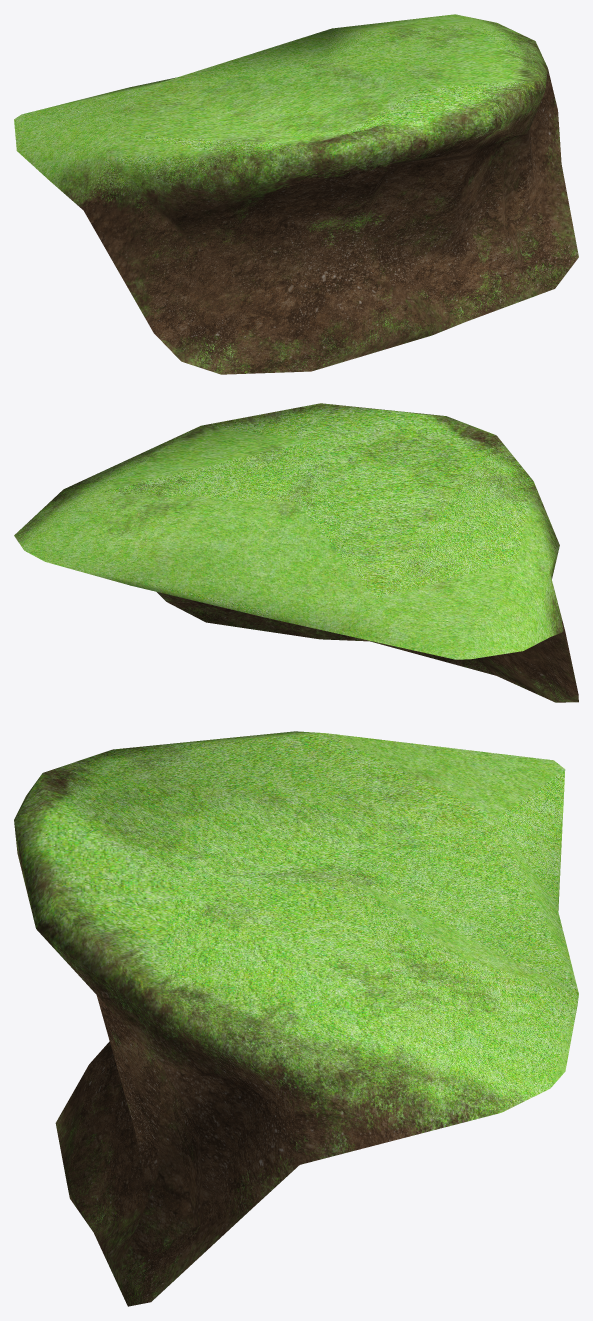
Rendered from ENV2910003.fbx.
The picture shows the model from 3 angles, top to bottom: view 1: azimuth 30°, elevation 25°; view 2: azimuth 150°, elevation 25°; view 3: azimuth 270°, elevation 25°; orthographic projection. The views are drawn at different scales.
Visible parts, largest first — view 1: smENV2910003; view 2: smENV2910003; view 3: smENV2910003.
Boxes of the visible parts, x1,y1,x2,y2 form: smENV2910003: (14, 14, 578, 374); smENV2910003: (14, 403, 578, 702); smENV2910003: (14, 731, 578, 1306).
Bounding box in the file's own units: 88.81 × 40.59 × 58.39.
Materials: 1 (1 with a texture image).
